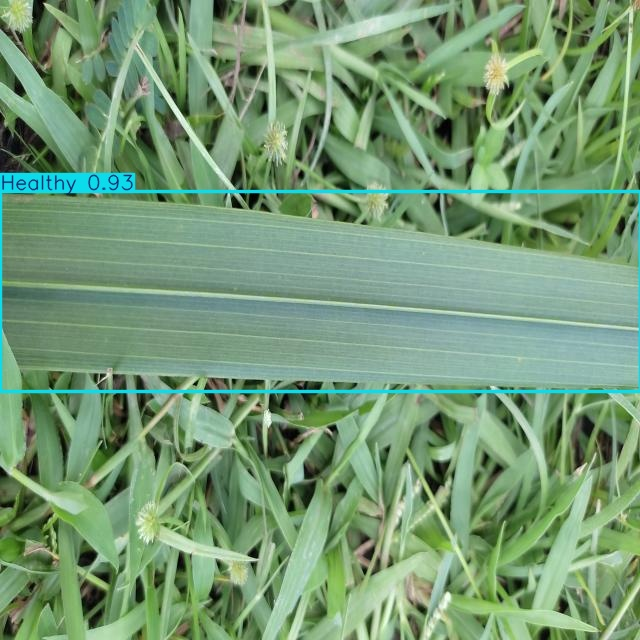Healthy: (0, 192, 640, 392)
